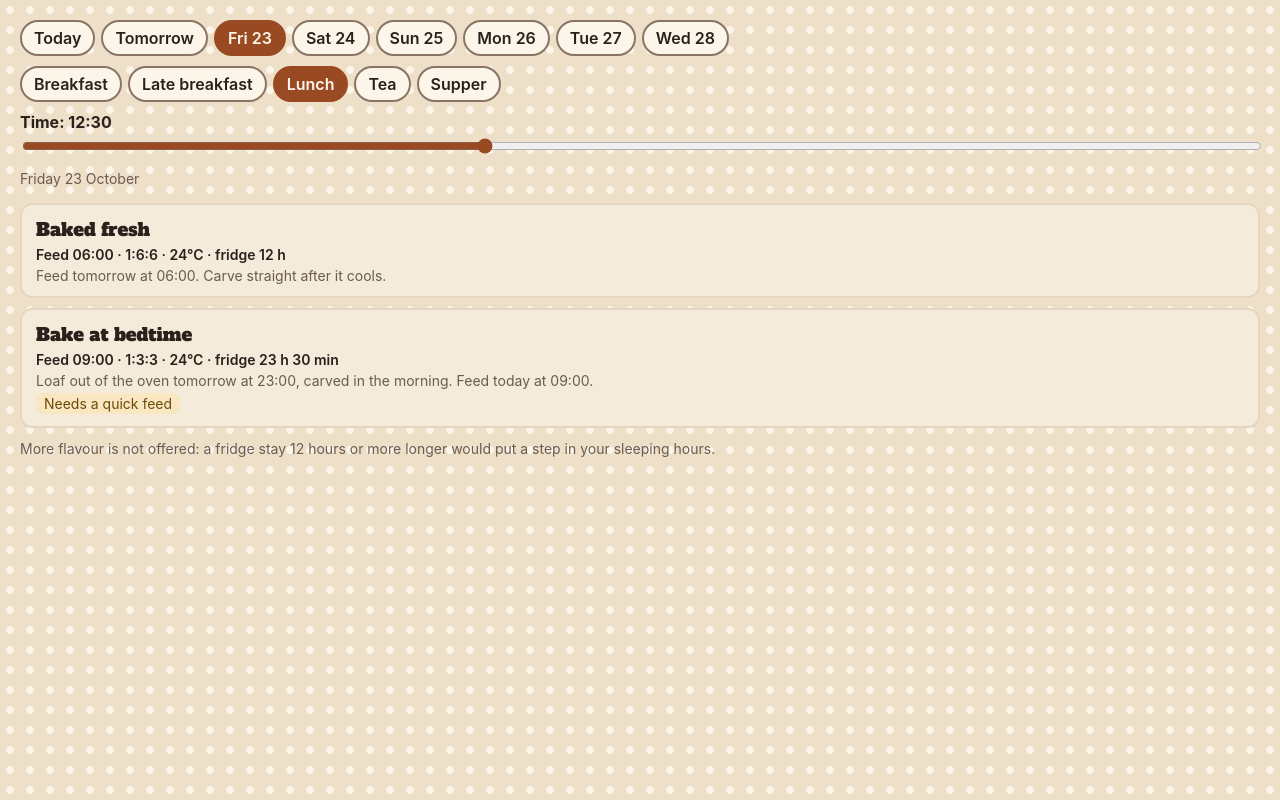
Bread at… pick a plan › says why a kind of plan is not offered, here a bedtime bake for a supper carve
Click the button "Supper": (459, 84) left=417, top=66, right=501, bottom=102
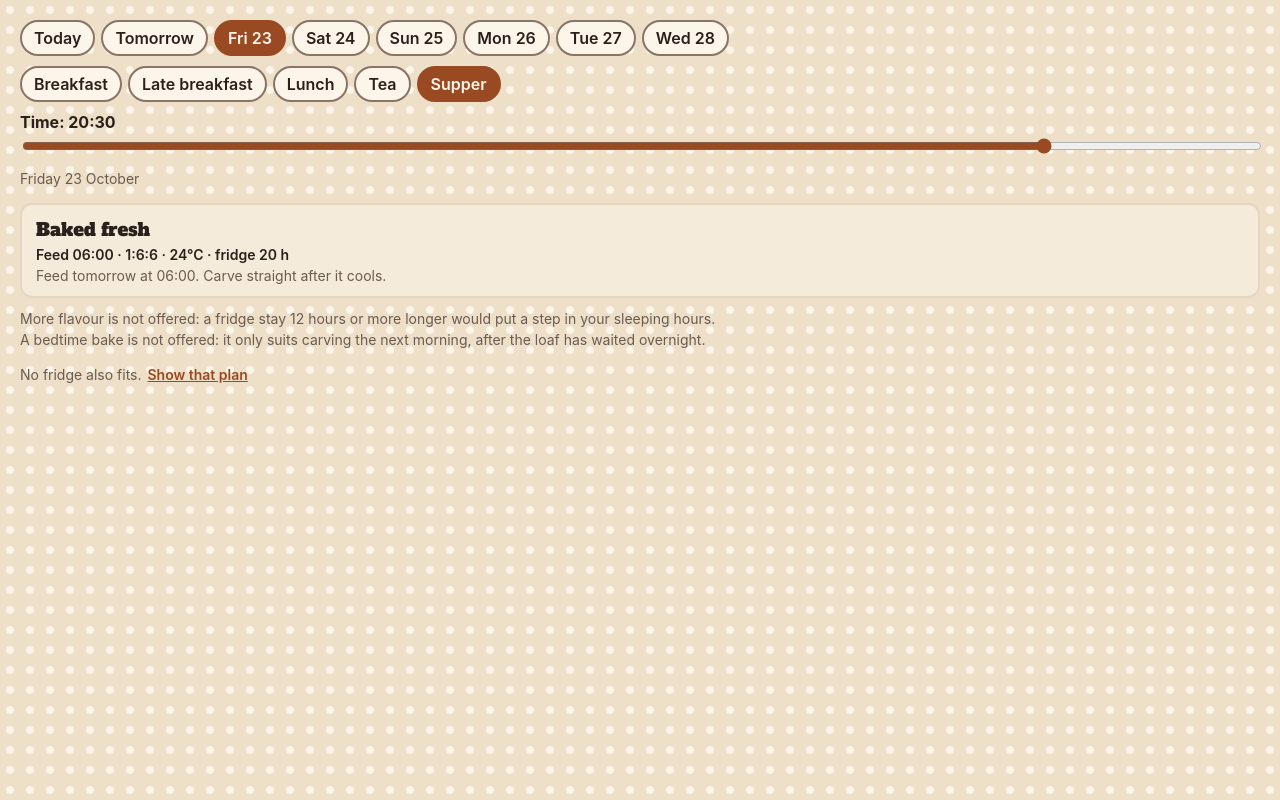
Check: the list item "A bedtime bake is not offered: it only suits carving the next morning" is shown, box left=20, top=331, right=706, bottom=348
